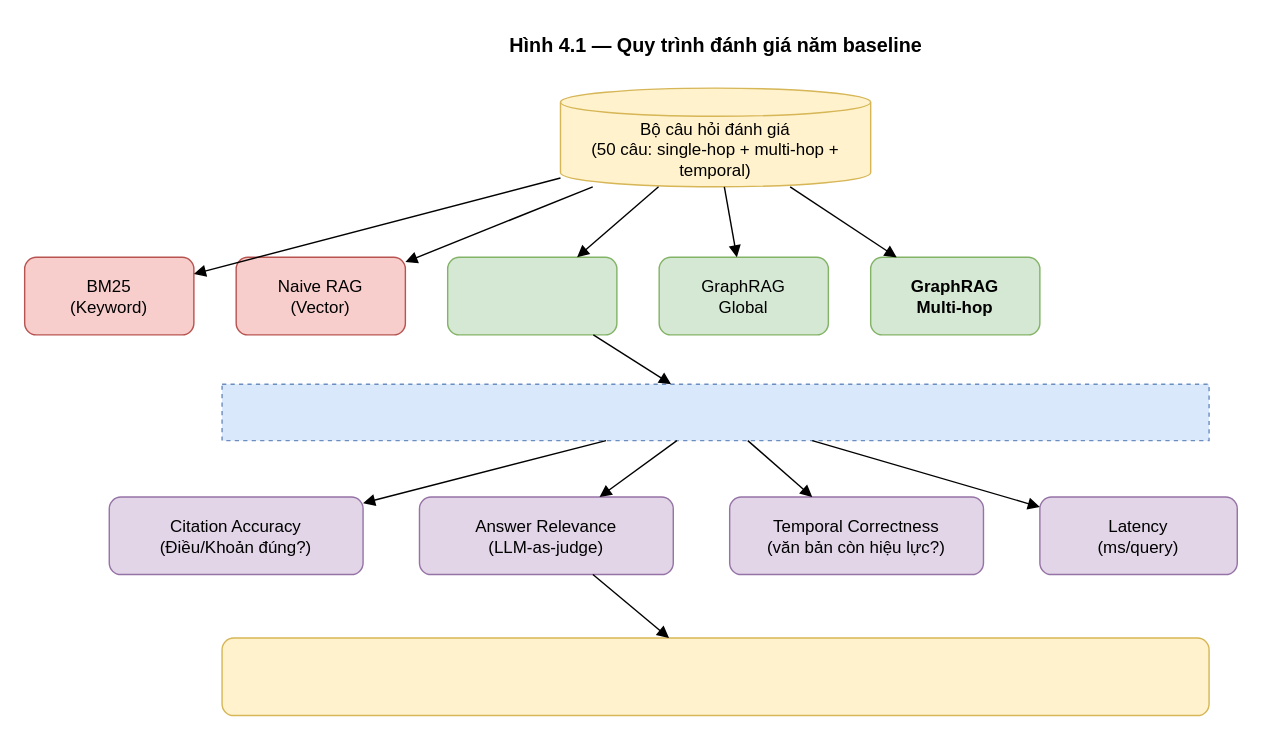
Some shapes in this 1262 by 740 pixel diagram are drawn without their labels. Each missing label, with the box of its shape:
Bảng so sánh + phân tích theo loại câu hỏi (single/multi/temporal): (221, 637, 1209, 716)
Chạy đồng bộ trên cùng LLM (GPT-4o-mini) + cùng corpus: (221, 383, 1209, 441)
GraphRAG Local: (446, 256, 617, 335)
